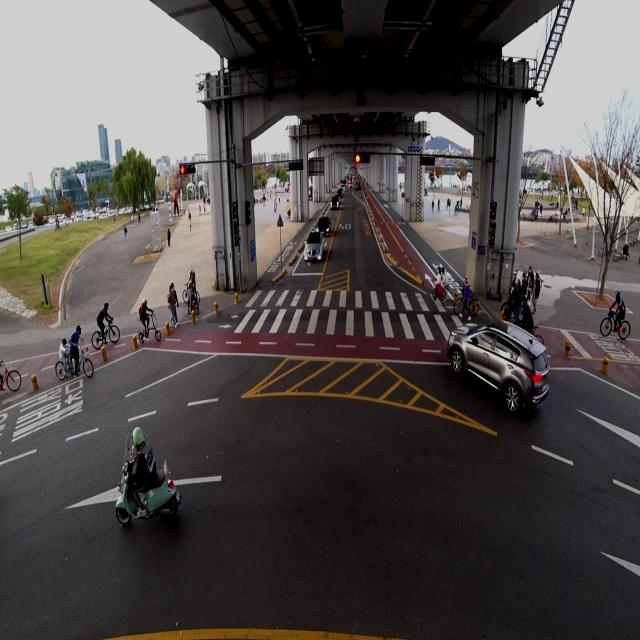Car: (446, 307, 554, 424), (301, 229, 325, 271), (315, 214, 332, 238), (330, 196, 340, 211)
Motorcycle: (115, 427, 182, 525)
